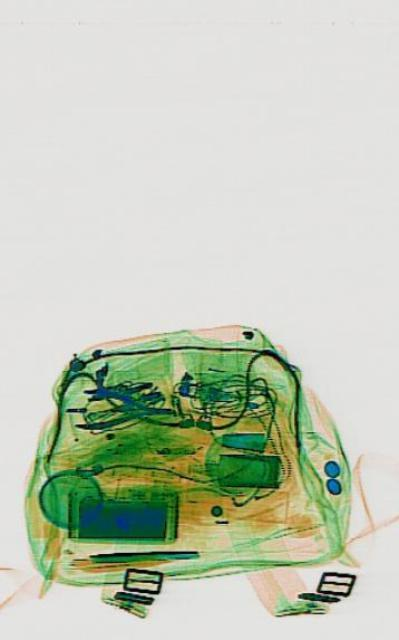Pliers: (73, 390, 171, 428)
